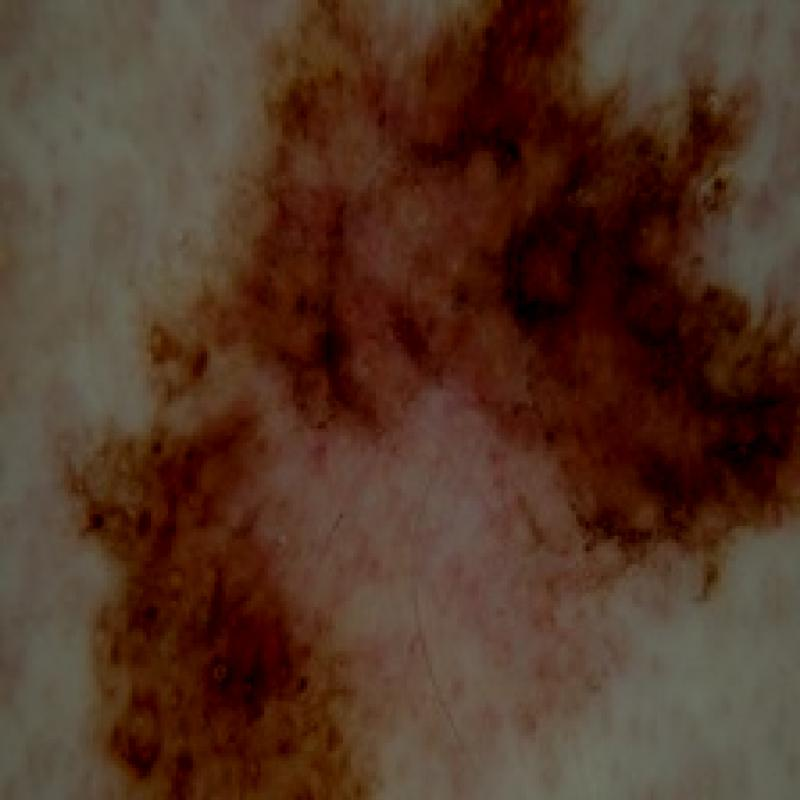malignant: (60, 3, 799, 800)
